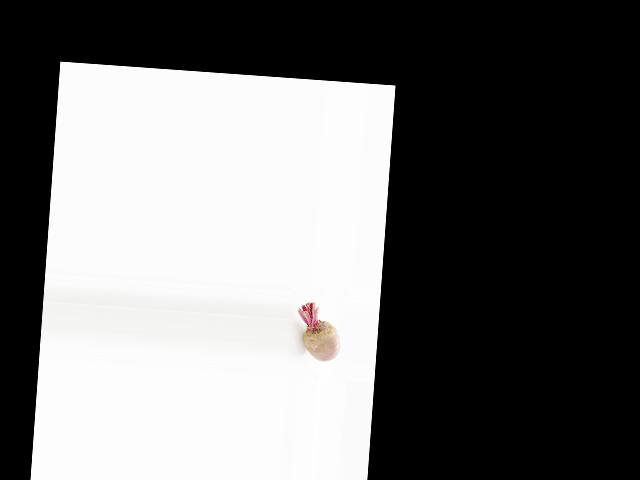beet: (293, 301, 343, 363)
